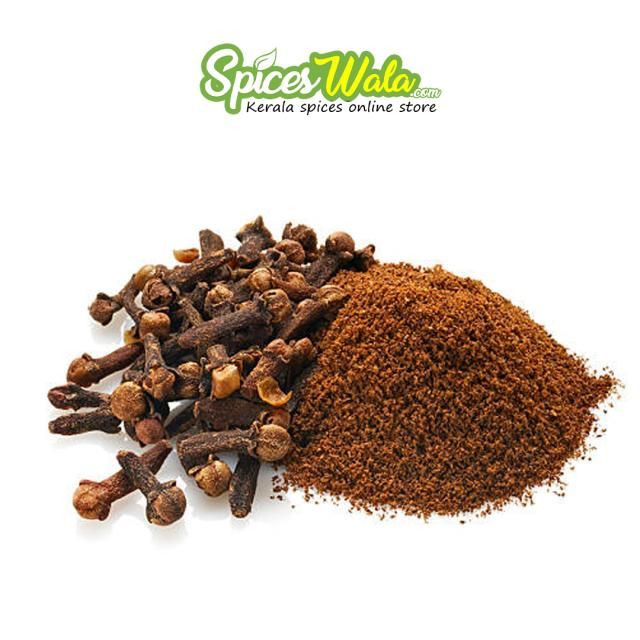clove: (49, 218, 374, 525)
